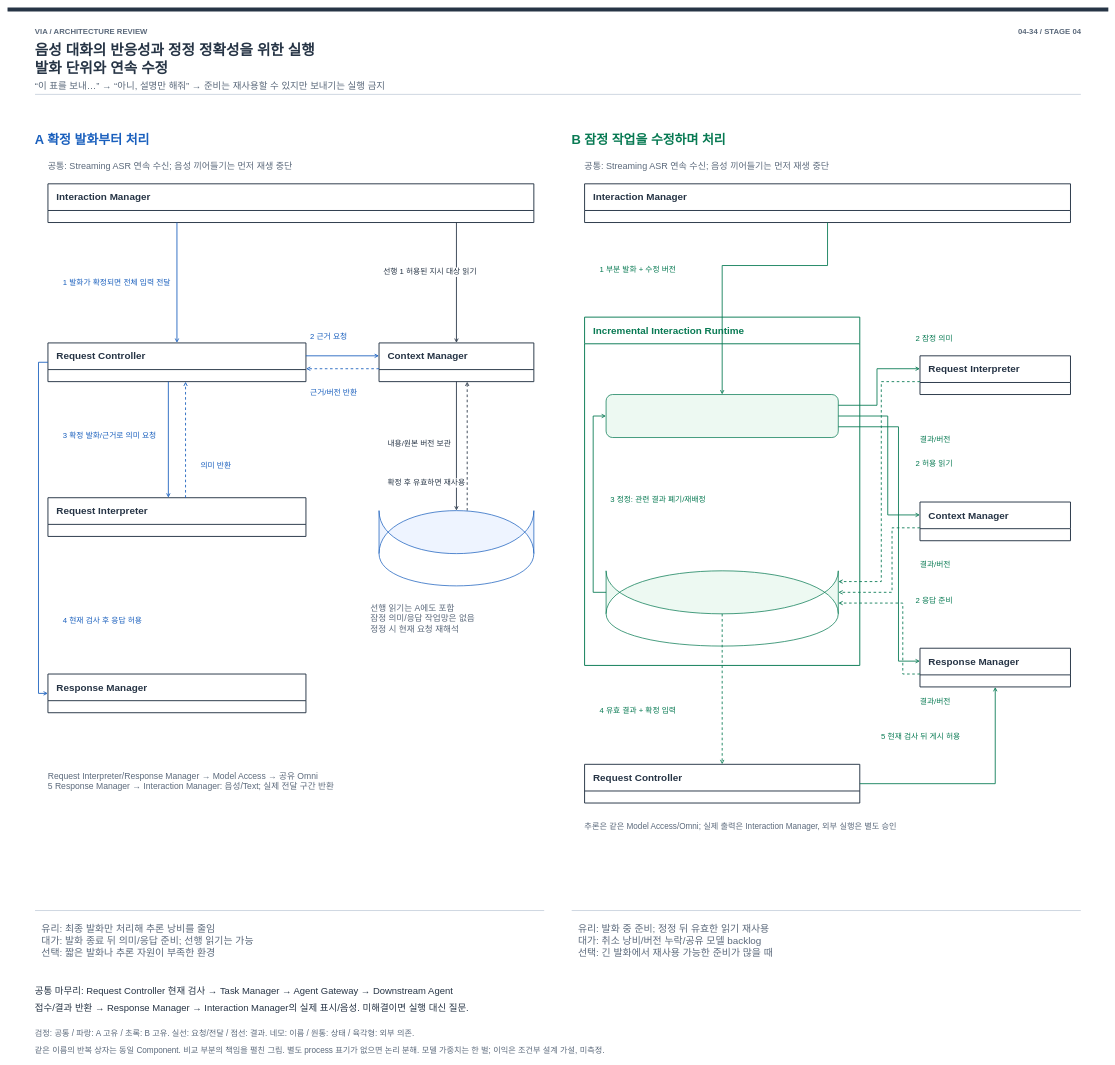
The diagram is 1115 pixels wide and 1065 high, and some of its shapes have lost their labels. Here are the shapes that lost their labels. From the top down, the centre of each, then its label:
the point at 722,416: 잠정 작업 배정기
the point at 456,532: 선행 읽기 cache
the point at 722,592: 작업과 근거의 의존 관계
